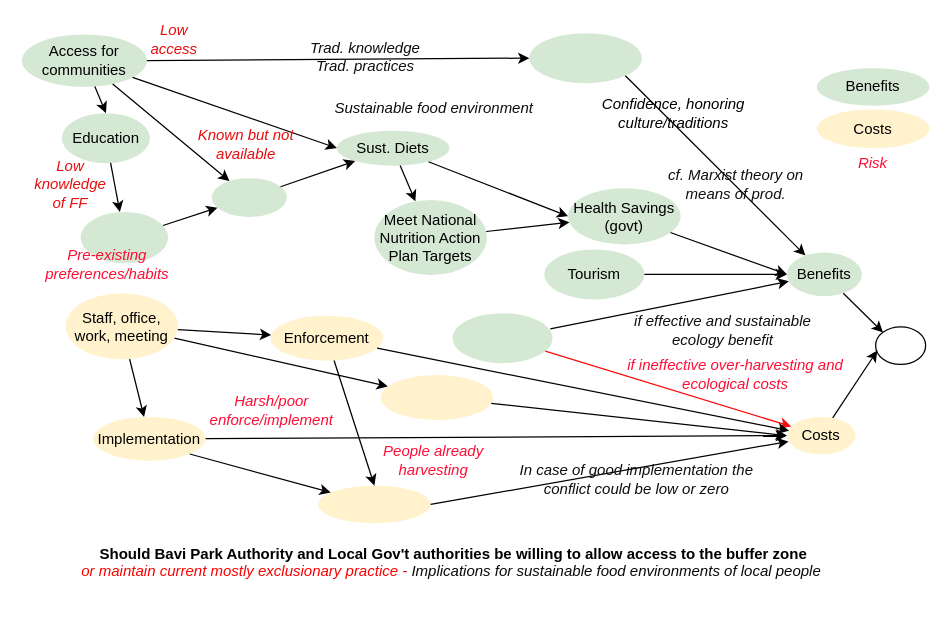
Image size: 950x631. Some labels were removed from this diagram. Each missing label, with the centre of its shape:
Choice: the point at 248,197
Conflict btw. park and locals: the point at 374,503
Conservation: the point at 502,337
Intangible cultural values: the point at 585,57
Monitoring: the point at 436,396
NPV: the point at 900,345
Preference: the point at 124,236
